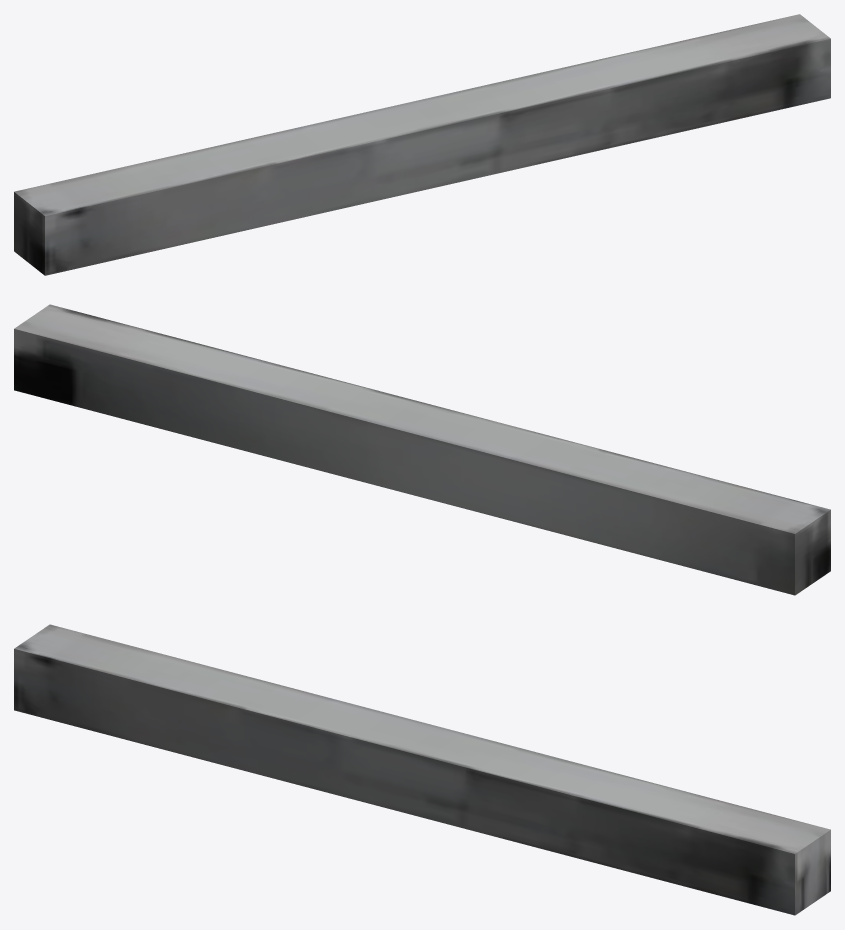
File: frame__seat_side_rail_1.glb
The picture shows the model from 3 angles, top to bottom: view 1: azimuth 30°, elevation 25°; view 2: azimuth 150°, elevation 25°; view 3: azimuth 330°, elevation 25°; orthographic projection. The views are drawn at different scales.
Parts seen in each view (by area): view 1: world; view 2: world; view 3: world.
Boxes of the visible parts, x1,y1,x2,y2 form: world: (14, 14, 830, 275); world: (14, 304, 830, 595); world: (14, 624, 830, 915).
Bounding box in the file's own units: 0.4611 × 0.034 × 0.049.
1 material, 1 textured.
